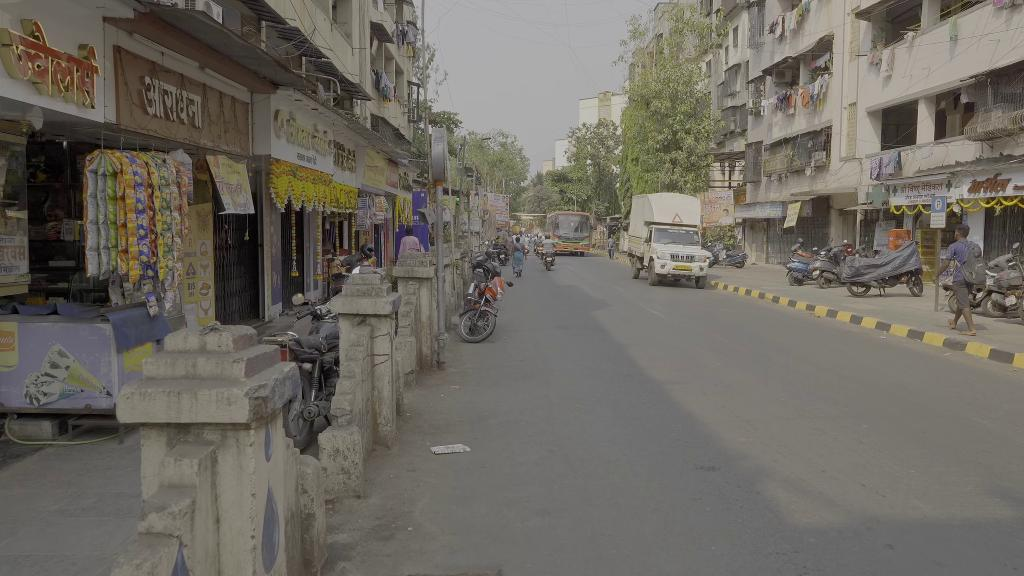garbage: (425, 440, 473, 459), (144, 295, 162, 318), (136, 213, 150, 238), (104, 174, 118, 199), (157, 164, 171, 187), (122, 165, 135, 189), (127, 237, 140, 260), (160, 208, 173, 230)
